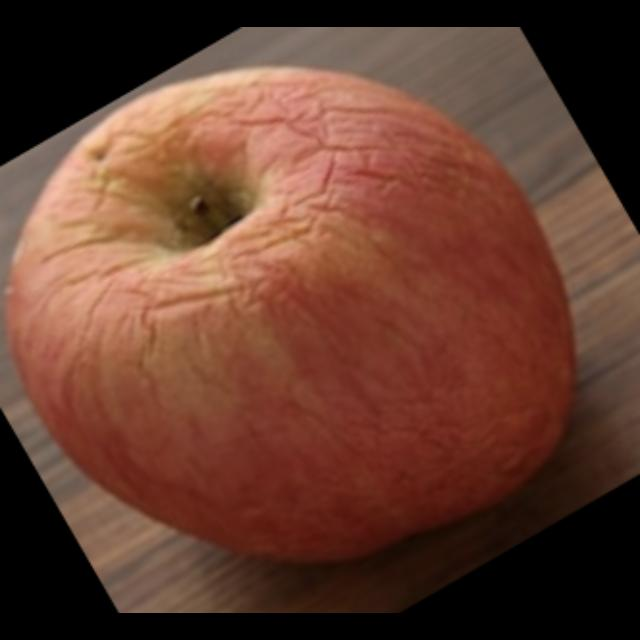Apel Tidak Segar: (10, 82, 578, 570)
